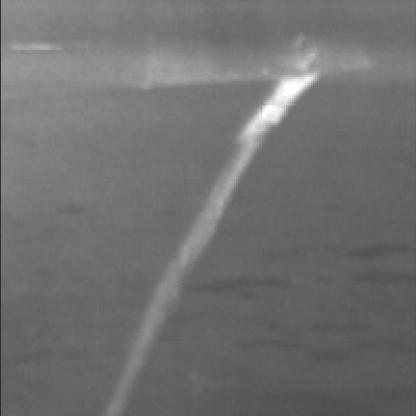scratches: (106, 40, 322, 406)
